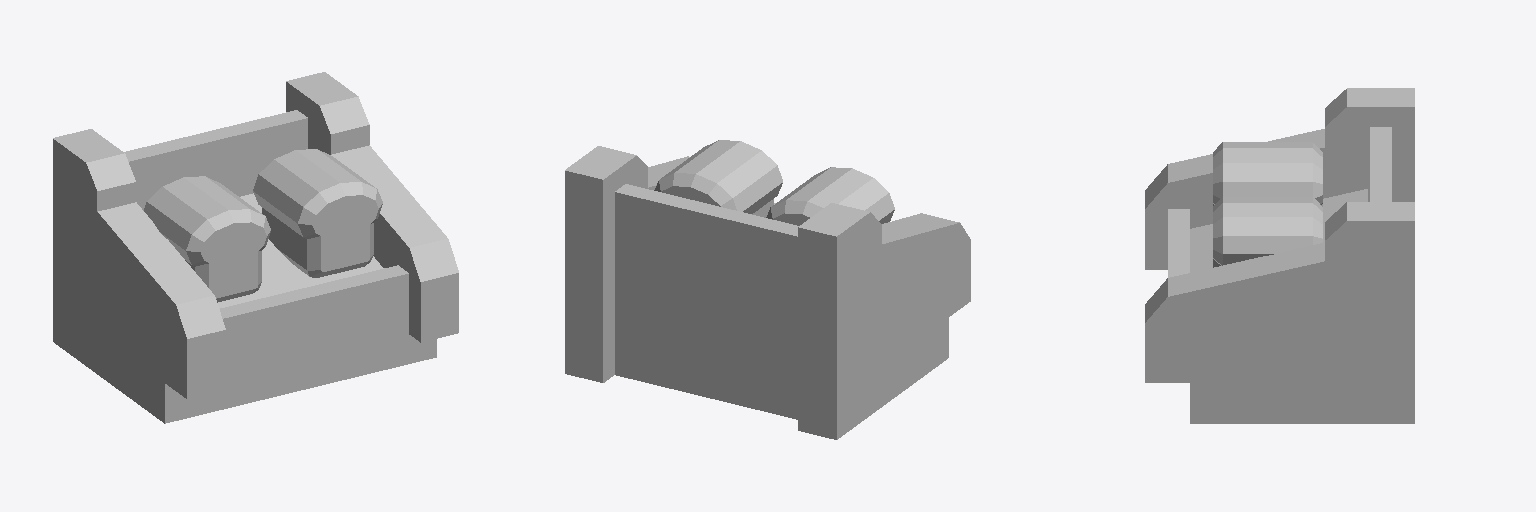
Rendered from display-bread.obj.
3 renders of one model, left to right at view 1: azimuth 30°, elevation 25°; view 2: azimuth 150°, elevation 25°; view 3: azimuth 270°, elevation 25°, orthographic.
Visible parts, largest first — view 1: display-bread, bread; view 2: display-bread, bread; view 3: display-bread, bread.
Part boxes in pixels (x1,y1,x2,y2): display-bread: (53, 72, 458, 423); bread: (144, 149, 382, 302); display-bread: (565, 146, 970, 439); bread: (654, 140, 894, 225); display-bread: (1145, 88, 1414, 423); bread: (1213, 142, 1322, 267).
Size of the model in its own units: 0.7 by 0.5 by 0.6.